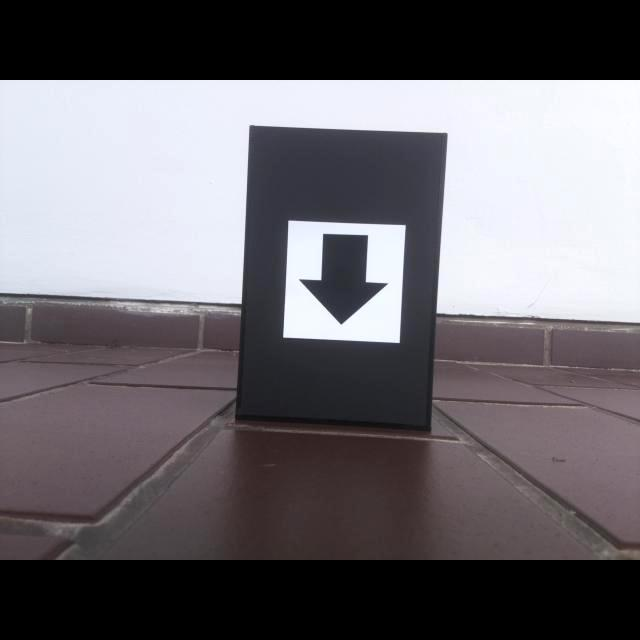DOWN: (297, 234, 391, 326)
